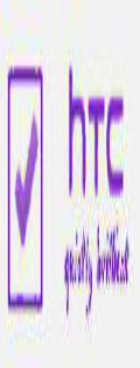CheckBox: (1, 1, 139, 367)
